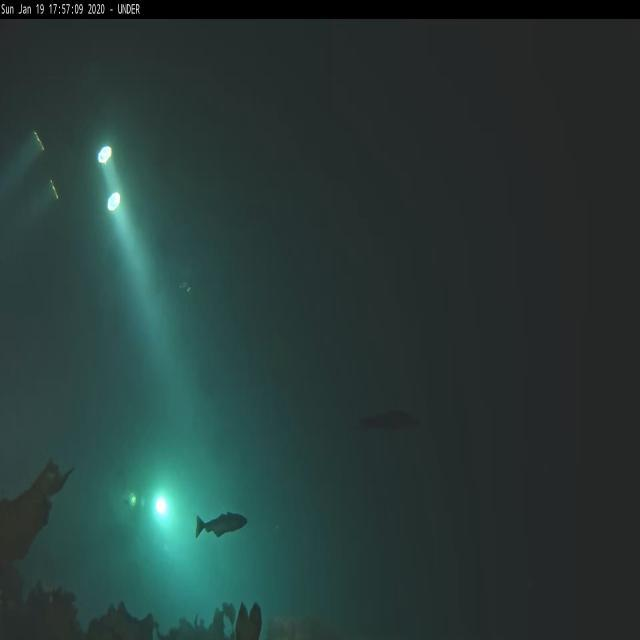fish: (358, 408, 419, 436), (196, 510, 247, 540)
